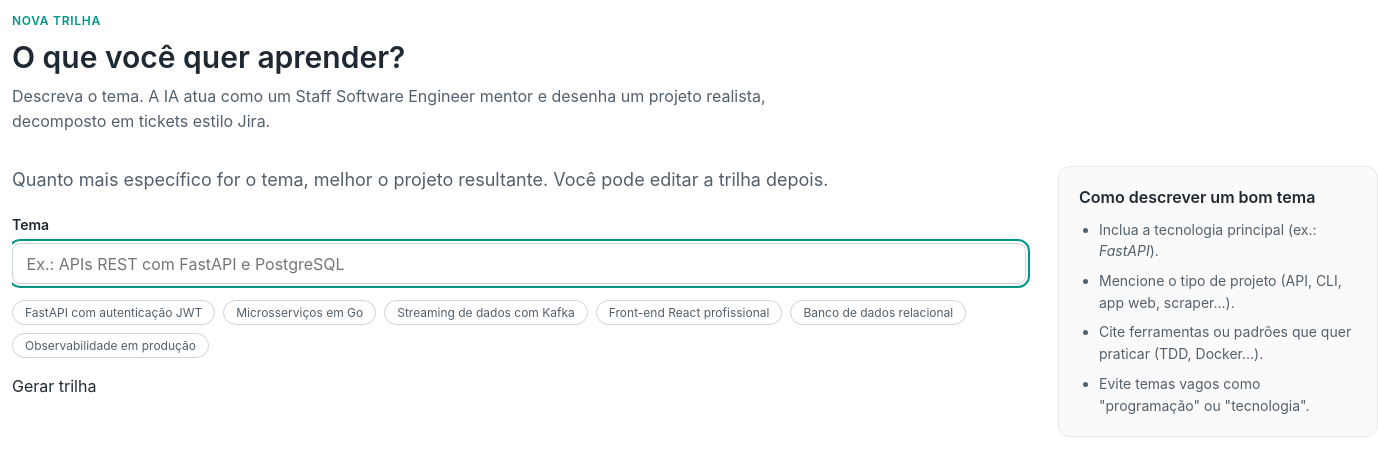
<CreateTrailPage /> › preenche o campo ao clicar em uma sugestão
The image size is (1378, 454).
Click the list item "Microsserviços em Go". click: point(300, 313)
box: [223,300,376,326]
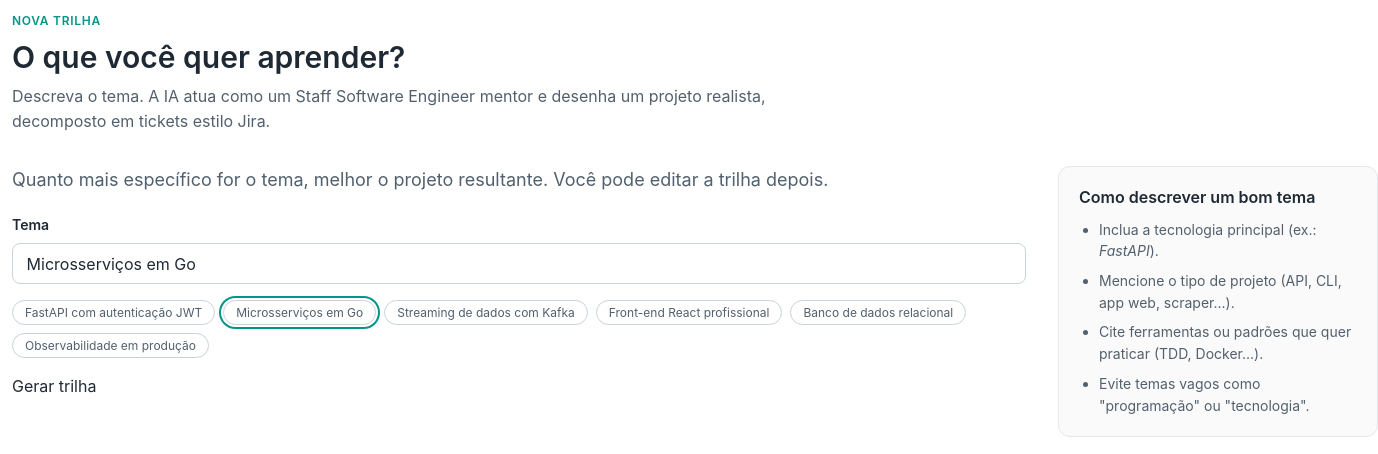
Check: the field labelled "Tema" holds "Microsserviços em Go", box [12,243,1026,284]
